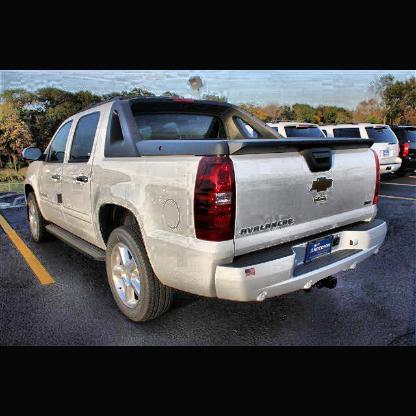Chevrolet Avalanche Crew Cab 2012: (25, 98, 389, 324)
